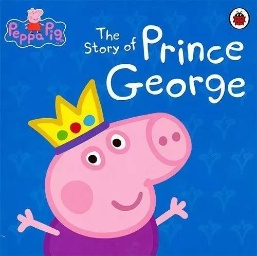Peppa: (15, 79, 194, 256)
